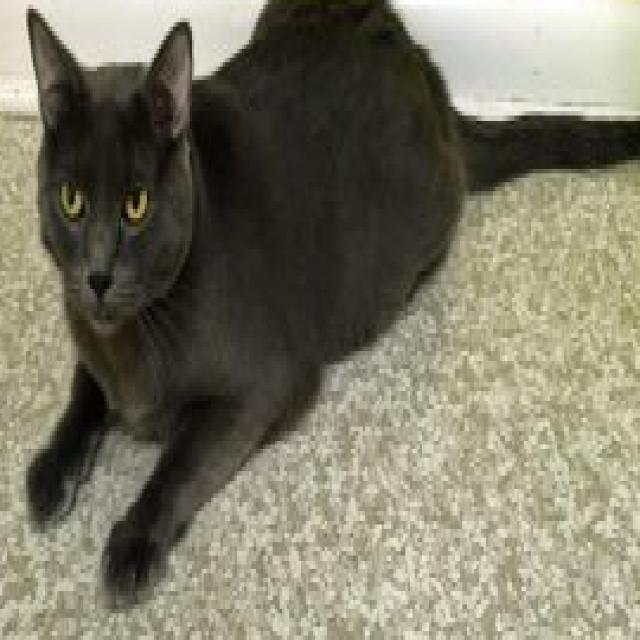Russian Blue: (21, 0, 639, 604)
